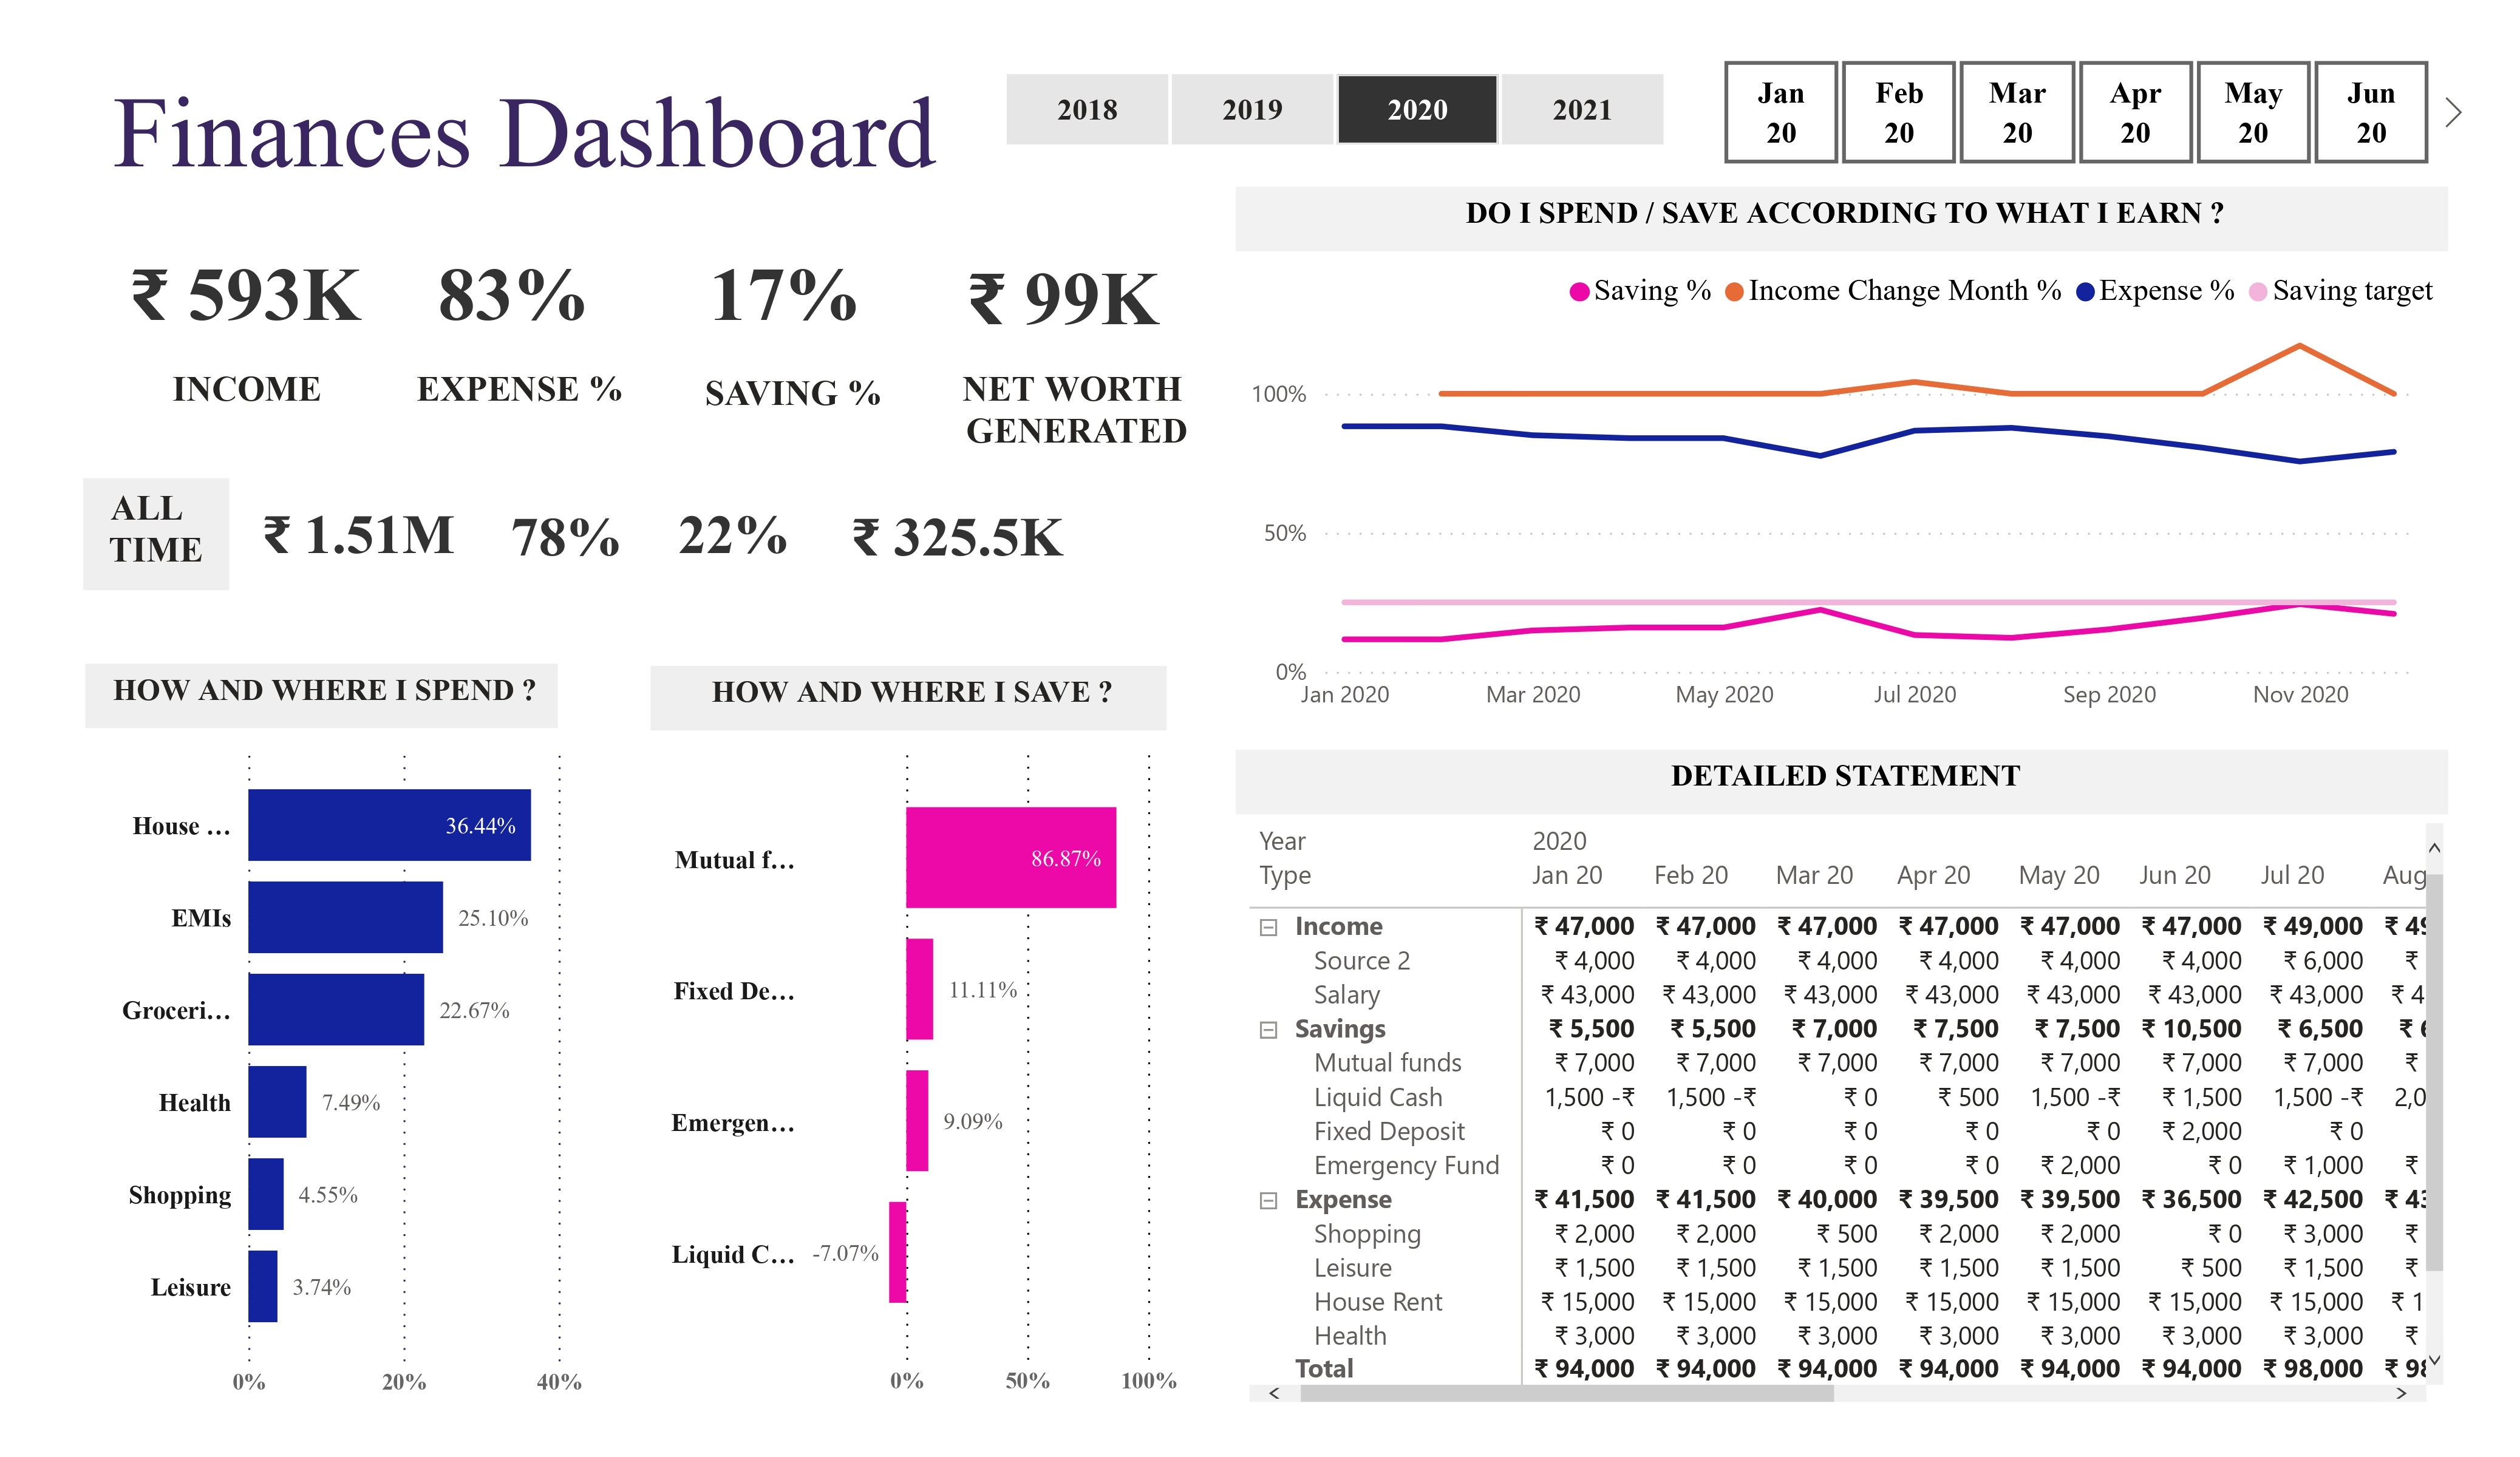

What the dashboard file says about the page in this screenshot:
{"tool":"powerbi","page":{"name":"Page 1","canvas":[1280,720],"ordinal":0},"visuals":[{"type":"card","fields":{"Values":["Key Measures.Total Income"]},"box":[33,92,145.6,72.8],"z":0},{"type":"card","fields":{"Values":["Key Measures.Expense %"]},"box":[196.4,92,100.3,72.8],"z":1000},{"type":"card","fields":{"Values":["Key Measures.Saving %"]},"box":[325.5,92,127.7,72.8],"z":2000},{"type":"card","fields":{"Values":["Key Measures.Total Savings"]},"box":[454.6,94.8,163.4,72.8],"z":3000},{"type":"textbox","box":[46.7,164.8,119.5,33],"z":4000},{"type":"textbox","box":[181.3,164.8,137.3,33],"z":5000},{"type":"textbox","box":[335.1,167.6,118.1,41.2],"z":6000},{"type":"textbox","box":[458.7,164.8,170.3,56.3],"z":7000},{"type":"slicer","fields":{"Values":["FinData.Date"]},"box":[858.8,1.2,421.2,66.3],"z":8000},{"type":"slicer","fields":{"Values":["FinData.Year"]},"box":[480.5,8.4,396.2,50.6],"z":9000},{"type":"textbox","box":[19.2,228,76.9,59.1],"z":10000},{"type":"card","fields":{"Values":["Key Measures.Total Income"]},"box":[105.8,226.6,118.1,60.4],"z":11000},{"type":"card","fields":{"Values":["Key Measures.Expense %"]},"box":[223.9,228,101.6,60.4],"z":12000},{"type":"card","fields":{"Values":["Key Measures.Saving %"]},"box":[311.8,226.6,101.6,60.4],"z":13000},{"type":"card","fields":{"Values":["Key Measures.Total Savings"]},"box":[413.4,228,134.6,60.4],"z":14000},{"type":"card","fields":{"Values":["Key Measures.Title"]},"box":[2.7,0,500,82.4],"z":15000},{"type":"clusteredBarChart","fields":{"Category":["FinData.Component"],"Y":["Key Measures.Total Expense"]},"box":[20.6,359.8,291.2,359.8],"z":16000},{"type":"textbox","box":[20.6,325.5,248.6,34.3],"z":17000},{"type":"clusteredBarChart","fields":{"Category":["FinData.Component"],"Y":["Key Measures.Net Worth Generated"]},"box":[311.8,361.2,314.5,358.5],"z":18000},{"type":"textbox","box":[318.6,326.9,271.9,34.3],"z":19000},{"type":"lineChart","fields":{"Y":["Key Measures.Saving %","Key Measures.Income Change Month %","Key Measures.Expense %","Key Measures.Saving target"],"Category":["FinData.Date"]},"box":[629.5,108.2,639.3,251.5],"z":20000},{"type":"textbox","box":[627.2,74.5,638.8,33.7],"z":21000},{"type":"pivotTable","fields":{"Columns":["FinData.Year","FinData.Date"],"Values":["Sum(FinData.Value)"],"Rows":["Type.Types","FinData.Component"]},"box":[629.5,404.7,639.3,314.7],"z":22000},{"type":"textbox","box":[626.7,370.9,639.3,33.7],"z":23000}]}

Visuals, with their boxes in screenshot pixels (x1, y1, x2, y2):
card - Key Measures.Total Income: BBox(108, 220, 384, 358)
card - Key Measures.Expense %: BBox(418, 220, 608, 358)
card - Key Measures.Saving %: BBox(663, 220, 905, 358)
card - Key Measures.Total Savings: BBox(908, 225, 1218, 364)
textbox: BBox(134, 358, 361, 421)
textbox: BBox(390, 358, 650, 421)
textbox: BBox(681, 364, 905, 442)
textbox: BBox(916, 358, 1239, 465)
slicer - FinData.Date: BBox(1675, 48, 2474, 174)
slicer - FinData.Year: BBox(958, 61, 1709, 157)
textbox: BBox(82, 478, 228, 590)
card - Key Measures.Total Income: BBox(247, 475, 471, 590)
card - Key Measures.Expense %: BBox(471, 478, 663, 593)
card - Key Measures.Saving %: BBox(637, 475, 830, 590)
card - Key Measures.Total Savings: BBox(830, 478, 1086, 593)
card - Key Measures.Title: BBox(50, 46, 999, 202)
clusteredBarChart - FinData.Component x Key Measures.Total Expense: BBox(84, 728, 637, 1411)
textbox: BBox(84, 663, 556, 728)
clusteredBarChart - FinData.Component x Key Measures.Net Worth Generated: BBox(637, 731, 1234, 1411)
textbox: BBox(650, 666, 1166, 731)
lineChart - Key Measures.Saving % x Key Measures.Income Change Month %: BBox(1240, 251, 2453, 728)
textbox: BBox(1236, 187, 2448, 251)
pivotTable - FinData.Year x FinData.Date: BBox(1240, 813, 2453, 1410)
textbox: BBox(1234, 749, 2448, 813)
